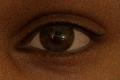eye: (40, 25, 74, 52)
